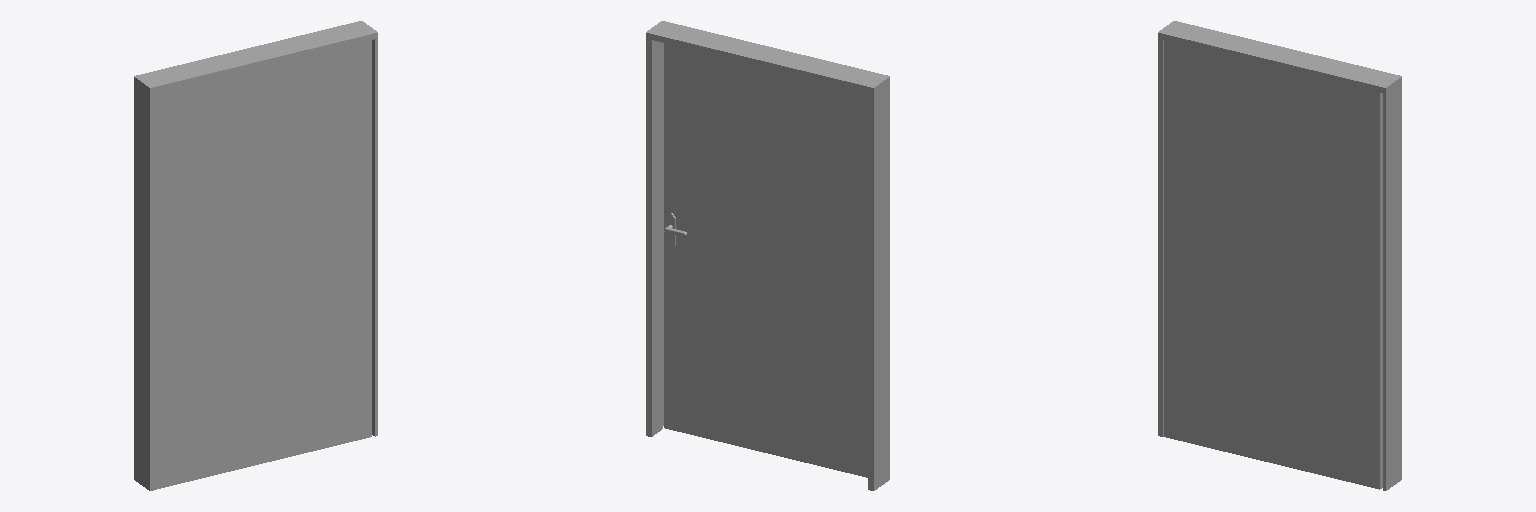
The robot description file, URDF, robot "Door":
<?xml version="1.0" ?>
<!-- =================================================================================== -->
<!-- |    This document was autogenerated by xacro from Door.xacro                     | -->
<!-- |    EDITING THIS FILE BY HAND IS NOT RECOMMENDED                                 | -->
<!-- =================================================================================== -->
<robot name="Door">
  <material name="silver">
    <color rgba="0.700 0.700 0.700 1.000"/>
  </material>
  <link name="base_link">
    <inertial>
      <origin rpy="0 0 0" xyz="0.5819937463998599 0.08316123619424477 1.32746546620251"/>
      <mass value="219.40985500000056"/>
      <inertia ixx="111.289107" ixy="-0.447727" ixz="-1.575941" iyy="183.94816" iyz="0.177886" izz="73.563072"/>
    </inertial>
    <visual>
      <origin rpy="0 0 0" xyz="0 0 0"/>
      <geometry>
        <mesh filename="../meshes/base_link.stl" scale="0.001 0.001 0.001"/>
      </geometry>
      <material name="silver"/>
    </visual>
    <collision>
      <origin rpy="0 0 0" xyz="0 0 0"/>
      <geometry>
        <mesh filename="../meshes/base_link.stl" scale="0.001 0.001 0.001"/>
      </geometry>
    </collision>
  </link>
  <link name="door_1">
    <inertial>
      <origin rpy="0 0 0" xyz="0.6114943756434033 0.021524038169472005 -1.0699955233309146"/>
      <mass value="882.0500765437021"/>
      <inertia ixx="336.462532" ixy="-0.011927" ixz="-0.002221" iyy="445.879122" iyz="-0.000108" izz="109.689348"/>
    </inertial>
    <visual>
      <origin rpy="0 0 0" xyz="0.001 -0.0 -2.142"/>
      <geometry>
        <mesh filename="../meshes/door_1.stl" scale="0.001 0.001 0.001"/>
      </geometry>
      <material name="silver"/>
    </visual>
    <collision>
      <origin rpy="0 0 0" xyz="0.001 -0.0 -2.142"/>
      <geometry>
        <mesh filename="../meshes/door_1.stl" scale="0.001 0.001 0.001"/>
      </geometry>
    </collision>
  </link>
  <link name="handle_1">
    <inertial>
      <origin rpy="0 0 0" xyz="-0.04174341394066472 0.03455244493582224 -3.4501106416229277e-09"/>
      <mass value="0.5043887416723644"/>
      <inertia ixx="8.2e-05" ixy="8.9e-05" ixz="0.0" iyy="0.000698" iyz="-0.0" izz="0.00074"/>
    </inertial>
    <visual>
      <origin rpy="0 0 0" xyz="-1.173 -0.0557 -1.102"/>
      <geometry>
        <mesh filename="../meshes/handle_1.stl" scale="0.001 0.001 0.001"/>
      </geometry>
      <material name="silver"/>
    </visual>
    <collision>
      <origin rpy="0 0 0" xyz="-1.173 -0.0557 -1.102"/>
      <geometry>
        <mesh filename="../meshes/handle_1.stl" scale="0.001 0.001 0.001"/>
      </geometry>
    </collision>
  </link>
  <joint name="door_joint" type="revolute">
    <origin rpy="0 0 0" xyz="-0.001 0.0 2.142"/>
    <parent link="base_link"/>
    <child link="door_1"/>
    <axis xyz="0.0 0.0 -1.0"/>
    <limit effort="100" lower="0.0" upper="1.570796" velocity="100"/>
  </joint>
  <joint name="handle_joint" type="revolute">
    <origin rpy="0 0 0" xyz="1.174 0.0557 -1.04"/>
    <parent link="door_1"/>
    <child link="handle_1"/>
    <axis xyz="-0.0 1.0 -0.0"/>
    <limit effort="100" lower="-1.570796" upper="0.0" velocity="100"/>
  </joint>
</robot>

--- What the picture shows (computed from the rendered views, not written in the file) ---
3 views of the same robot in one strip: view 1: azimuth 30°, elevation 25°; view 2: azimuth 150°, elevation 25°; view 3: azimuth 330°, elevation 25° (orthographic).
Model Door with 3 links and 2 joints (2 revolute), rooted at base_link, posed all joints at 0.
Visible links, largest first — view 1: door_1, base_link; view 2: door_1, base_link; view 3: door_1, base_link.
Link boxes in pixels (<box>): door_1: <box>156,40,371,489</box>; base_link: <box>134,21,377,490</box>; door_1: <box>664,43,867,477</box>; base_link: <box>646,21,889,490</box>; door_1: <box>1164,40,1382,489</box>; base_link: <box>1158,21,1401,490</box>.
Bounding box of the posed robot: 1.29 × 0.16 × 2.17 m (x, y, z).
Meshes: 3 distinct files referenced, 3 mesh visuals loaded (3 binary STL).
